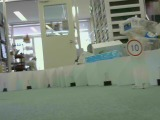speed_10: (125, 38, 144, 57)
